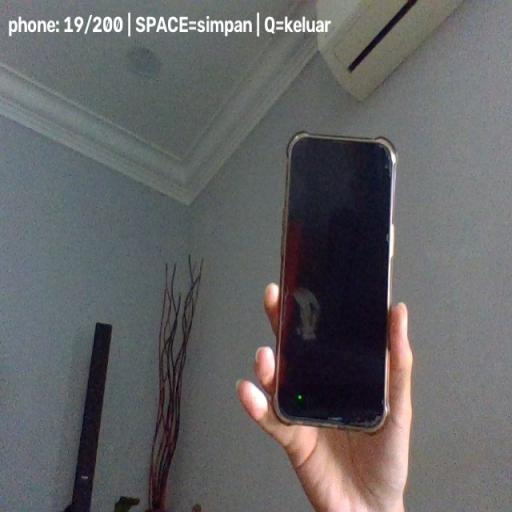Phone: (272, 130, 398, 435)
